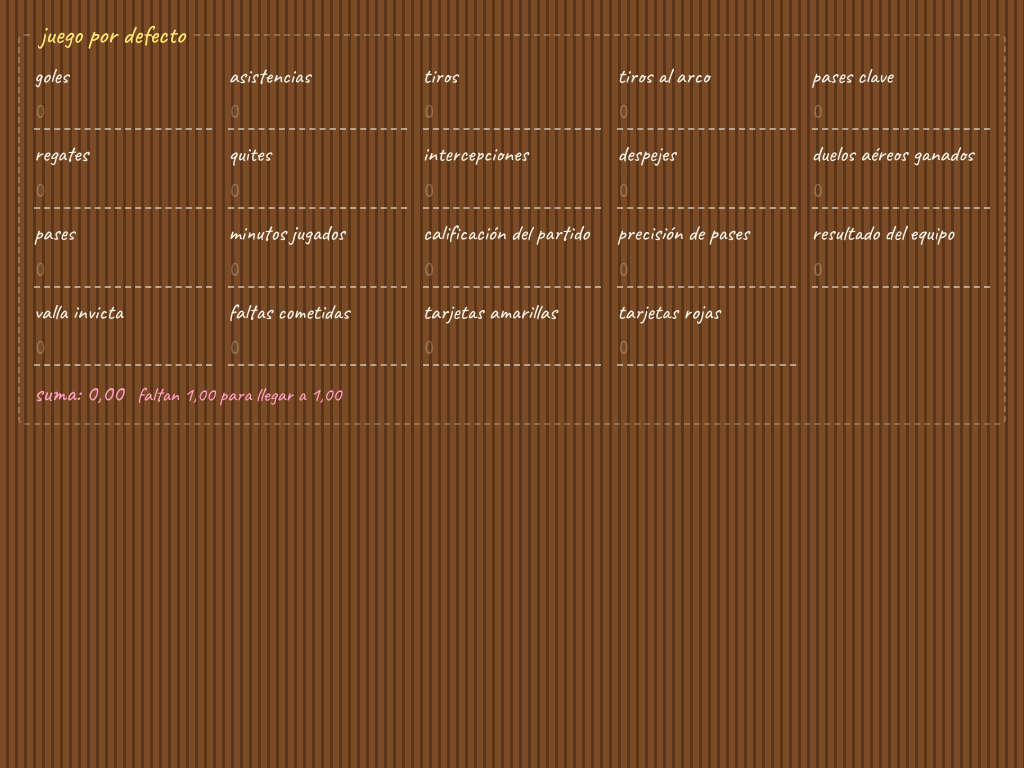
it: WeightsEditor › suma en vivo, exacta, con coma o punto
Check: the text "suma: 0,00" is shown, box [34,378,123,409]
Type "0,1" into the field labelled "goles" at (123, 112), box [34,94,212,130]
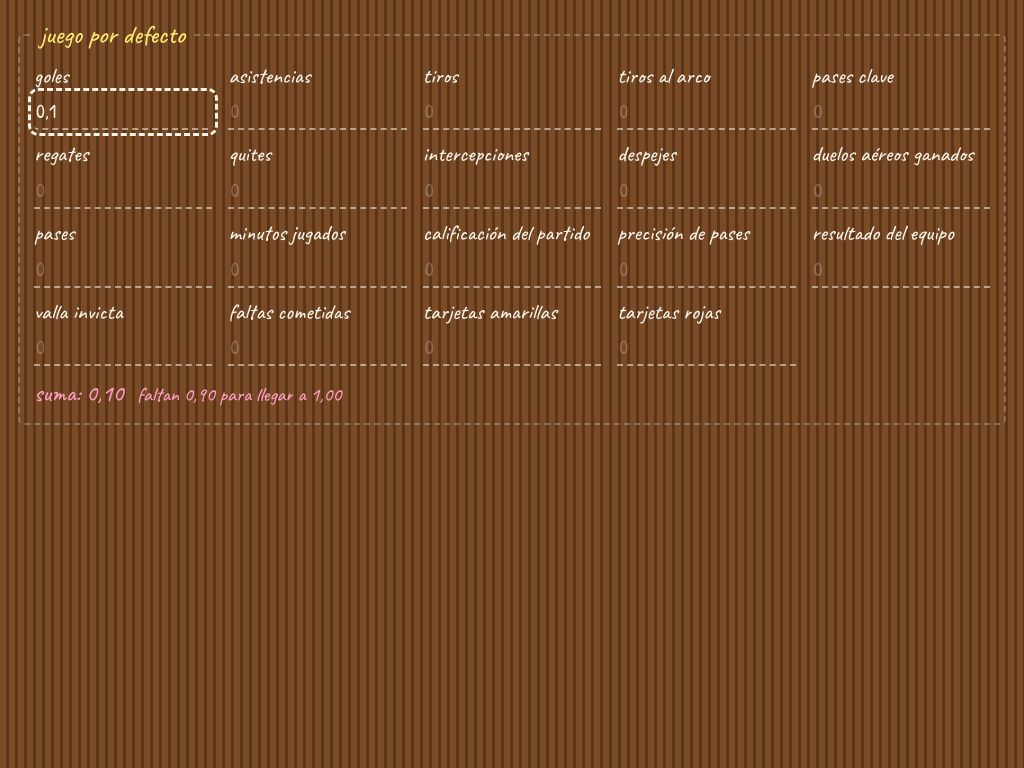
Check: the text "suma: 0,10" is shown, box [34,378,123,409]
Type "0.2" into the field labelled "asistencias" at (318, 112), box [228,94,407,130]
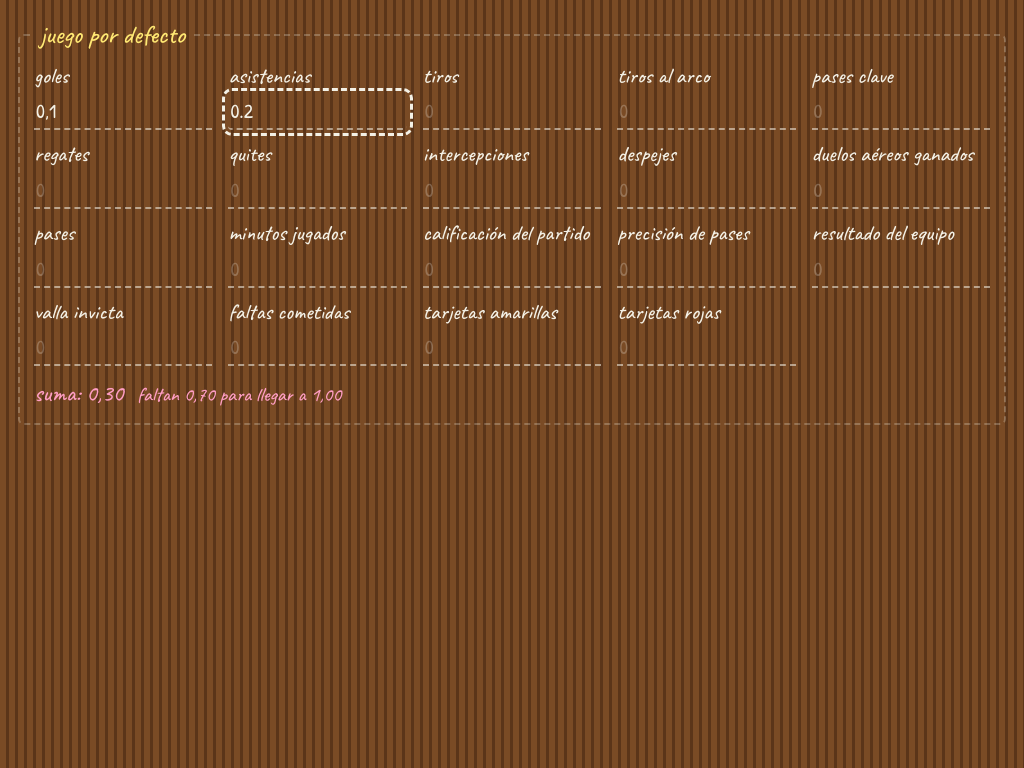
Type "0,7" into the field labelled "tiros" at (512, 112), box [423,94,601,130]
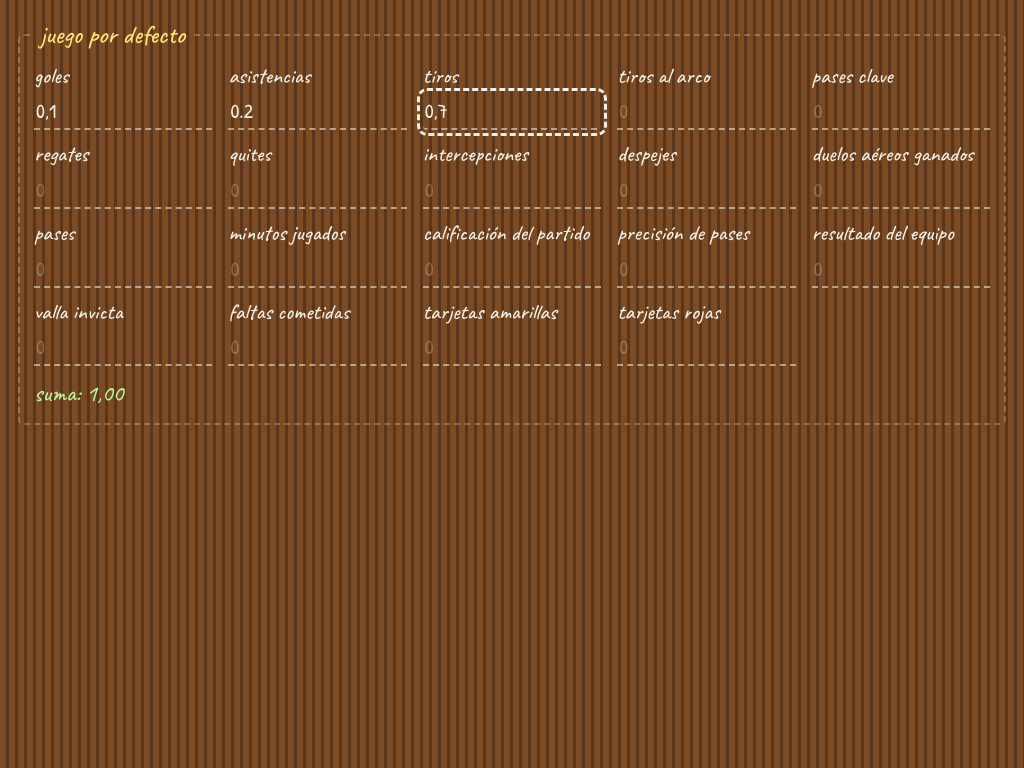
Check: the text "suma: 1,00" is shown, box [34,378,123,409]
Check: the text "faltan 0,70 para llegar a 1,00" is gone
